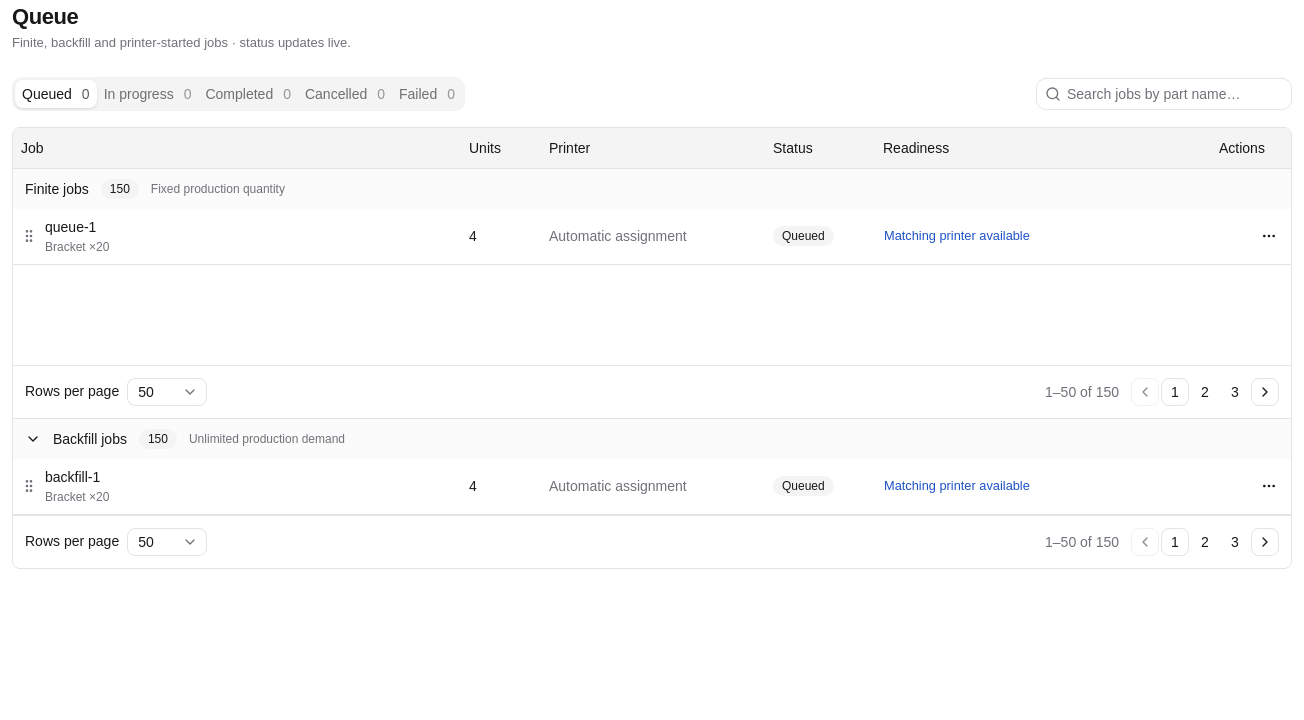
Scenario: QueuePage › changes only the chosen queue section size and resets its page
Expected: the link "queue-1" is shown, [45,219,96,235]
Click the button named "Next finite jobs page" at (1265, 392), box [1251,378,1279,406]
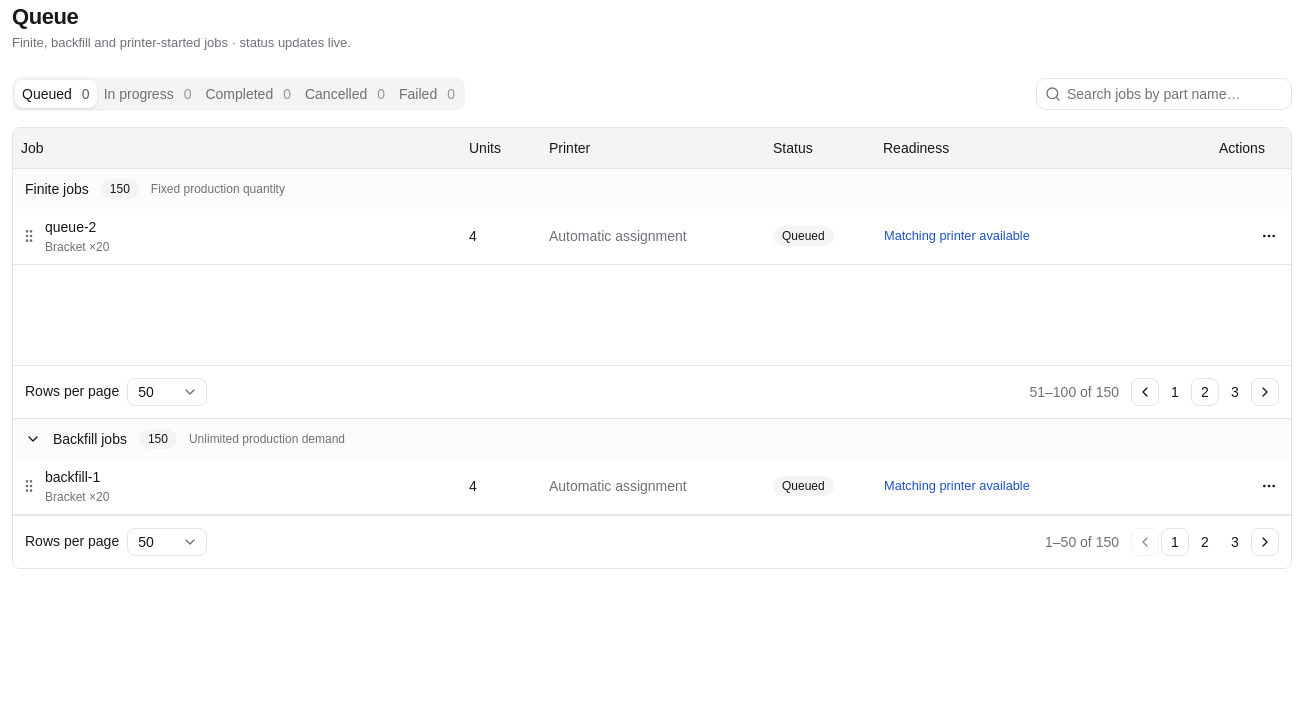
Now the link "queue-2" is shown, box [45,219,96,235]
Click the dropdown named "Rows per page" at (167, 392), box [127,378,207,406]
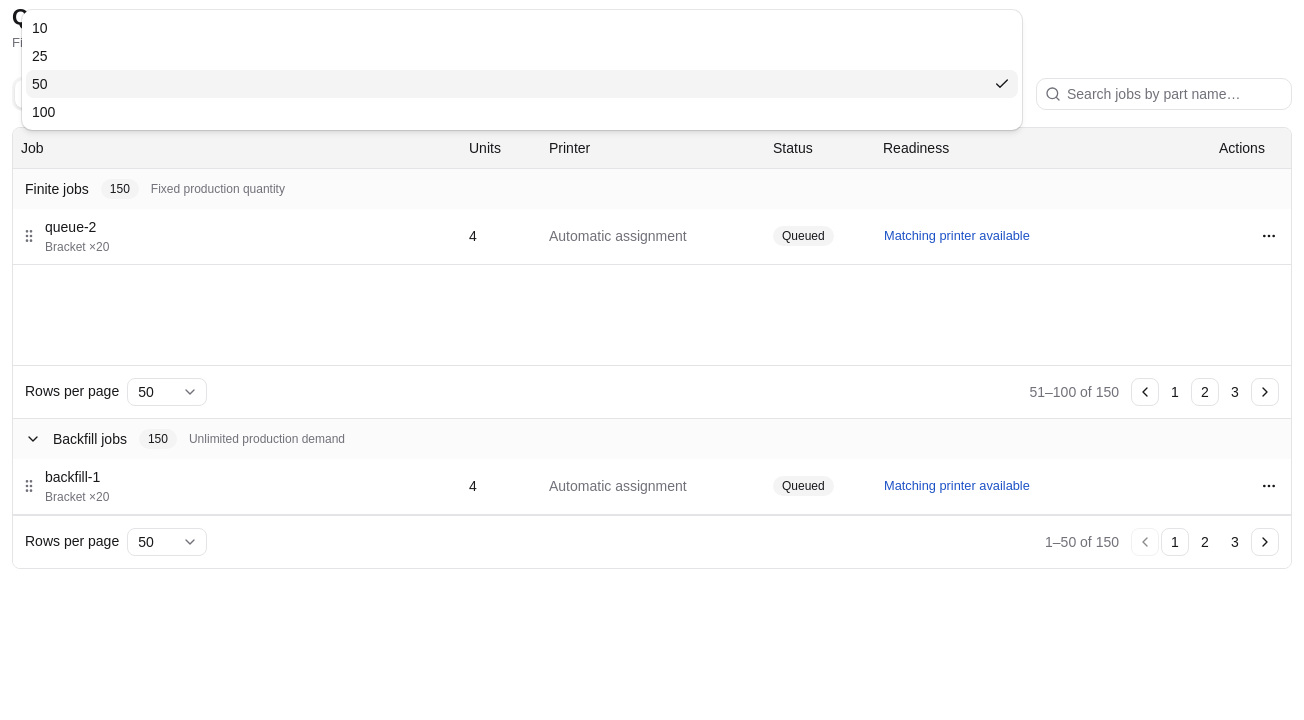
Click the option "10" at (40, 28), box [32,20,48,36]
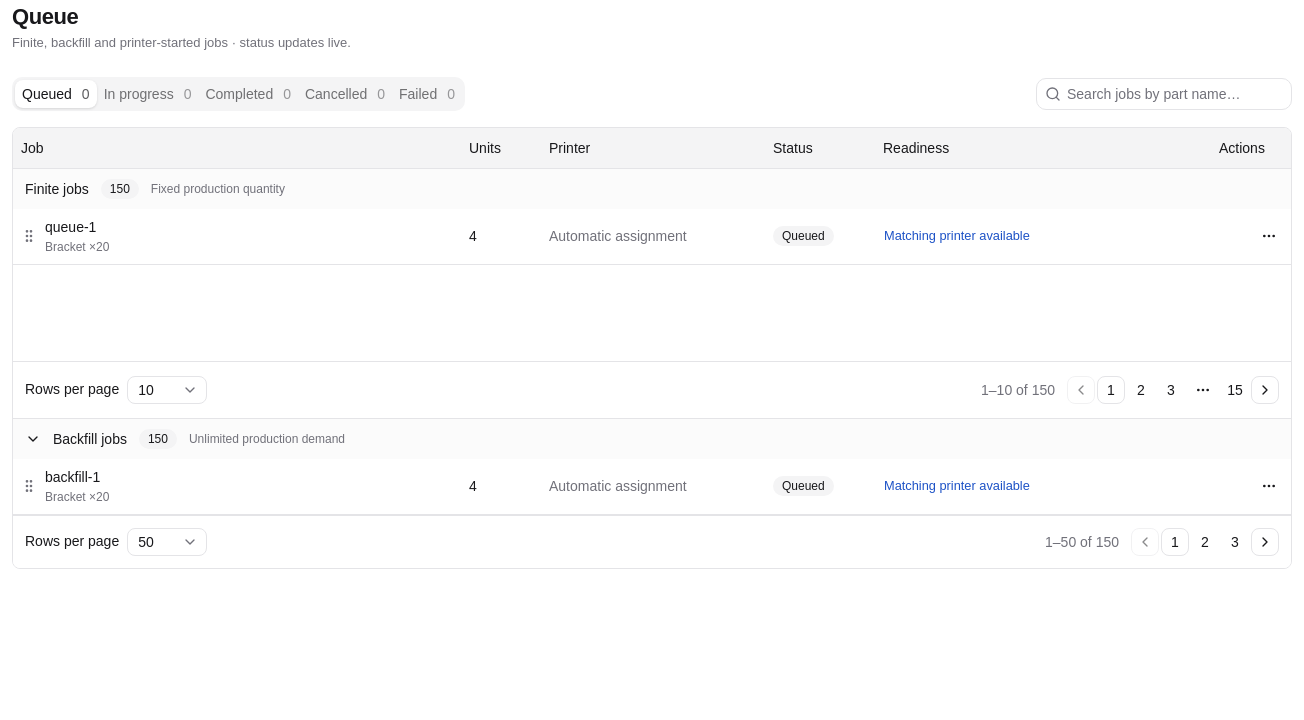
Expected: the dropdown named "Rows per page" reads "50", [127,528,207,556]
Now the link "queue-1" is shown, box [45,219,96,235]
Now the text "1–10 of 150" is shown, box [981,380,1055,400]
